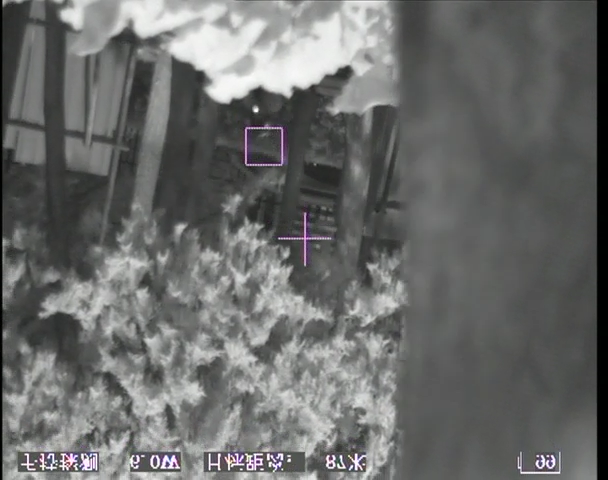my: (252, 104, 262, 115)
